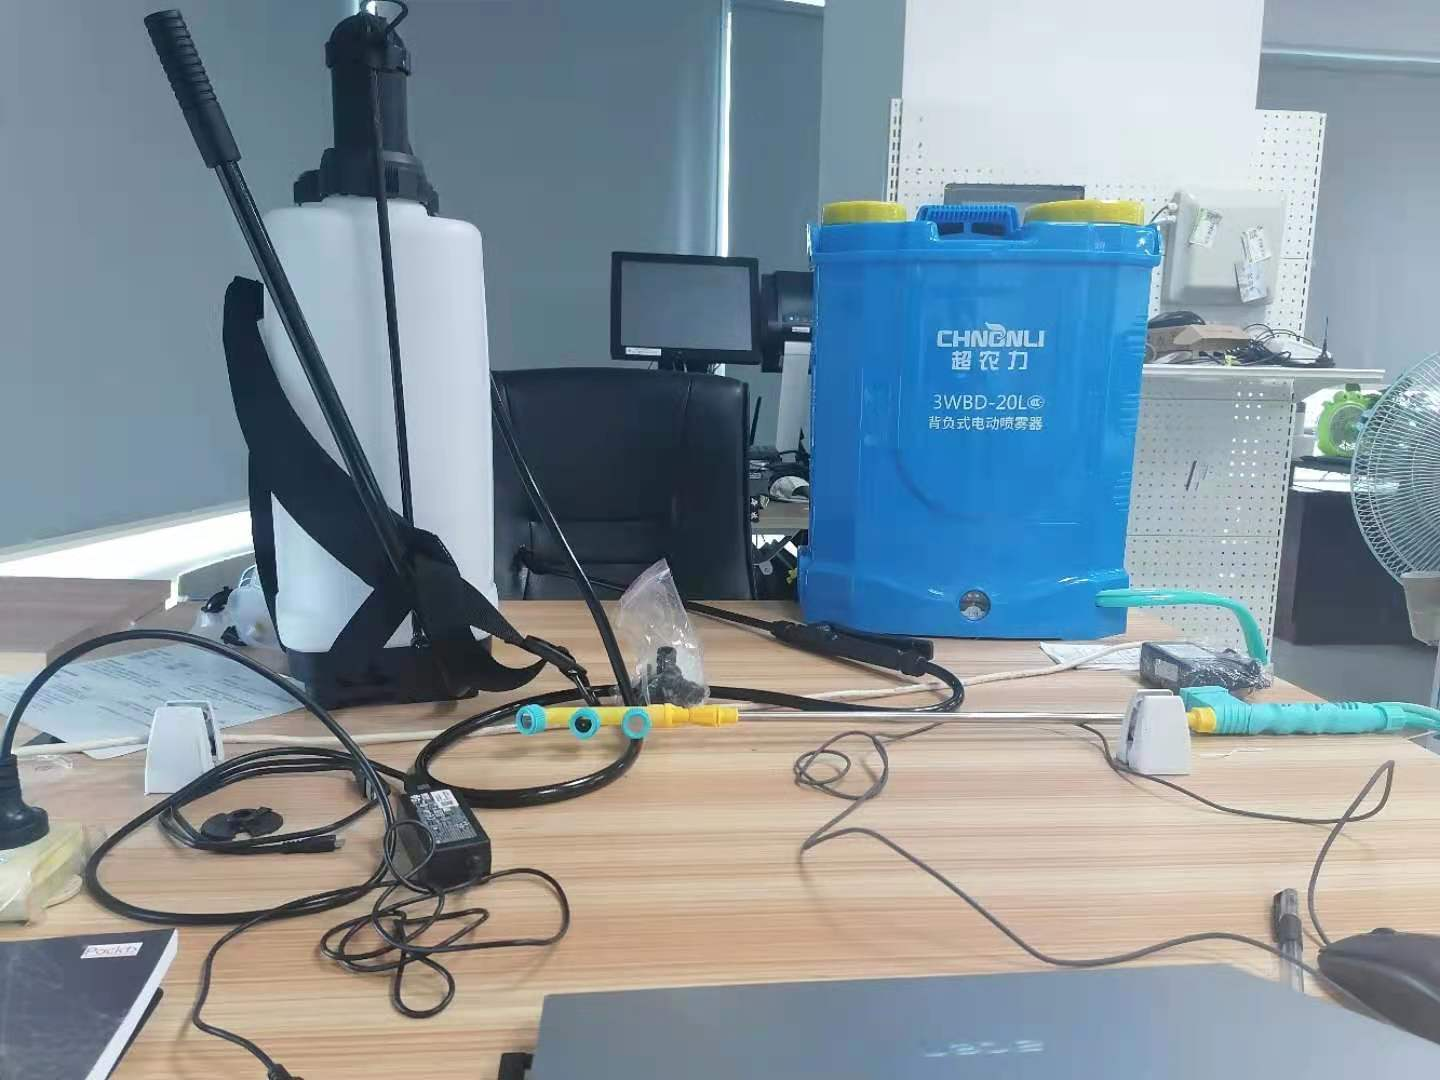berrl: (235, 5, 533, 706), (801, 185, 1166, 653)
